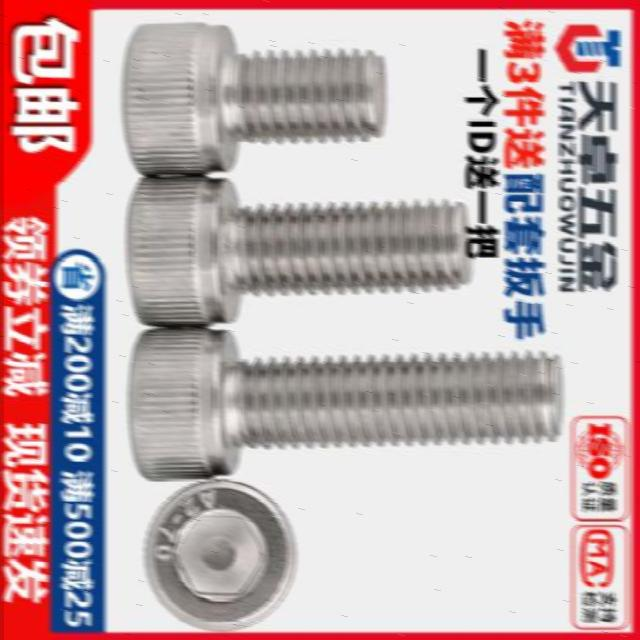Bolt: (126, 328, 564, 484), (126, 174, 476, 330), (120, 21, 390, 177), (142, 479, 296, 633)
